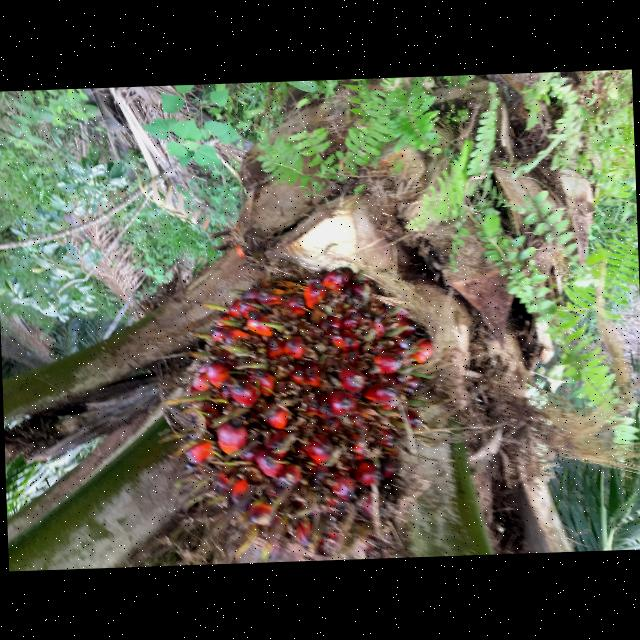Ripe: (161, 267, 434, 557)
